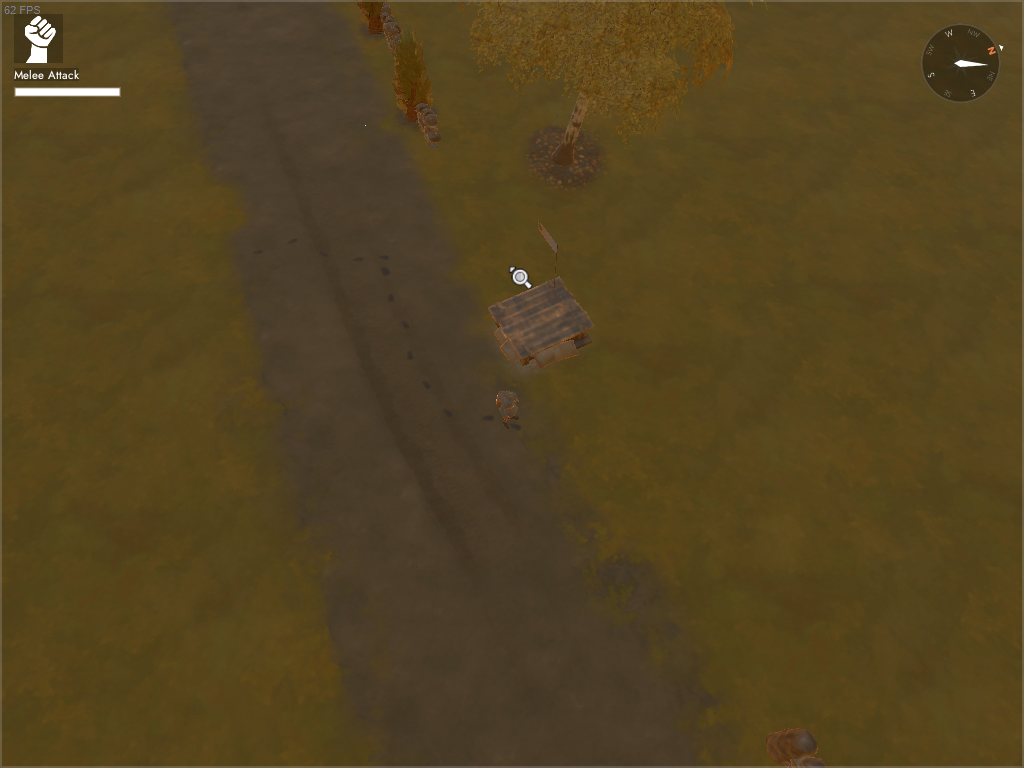pillbox: (483, 216, 600, 374)
player: (488, 383, 527, 431)
